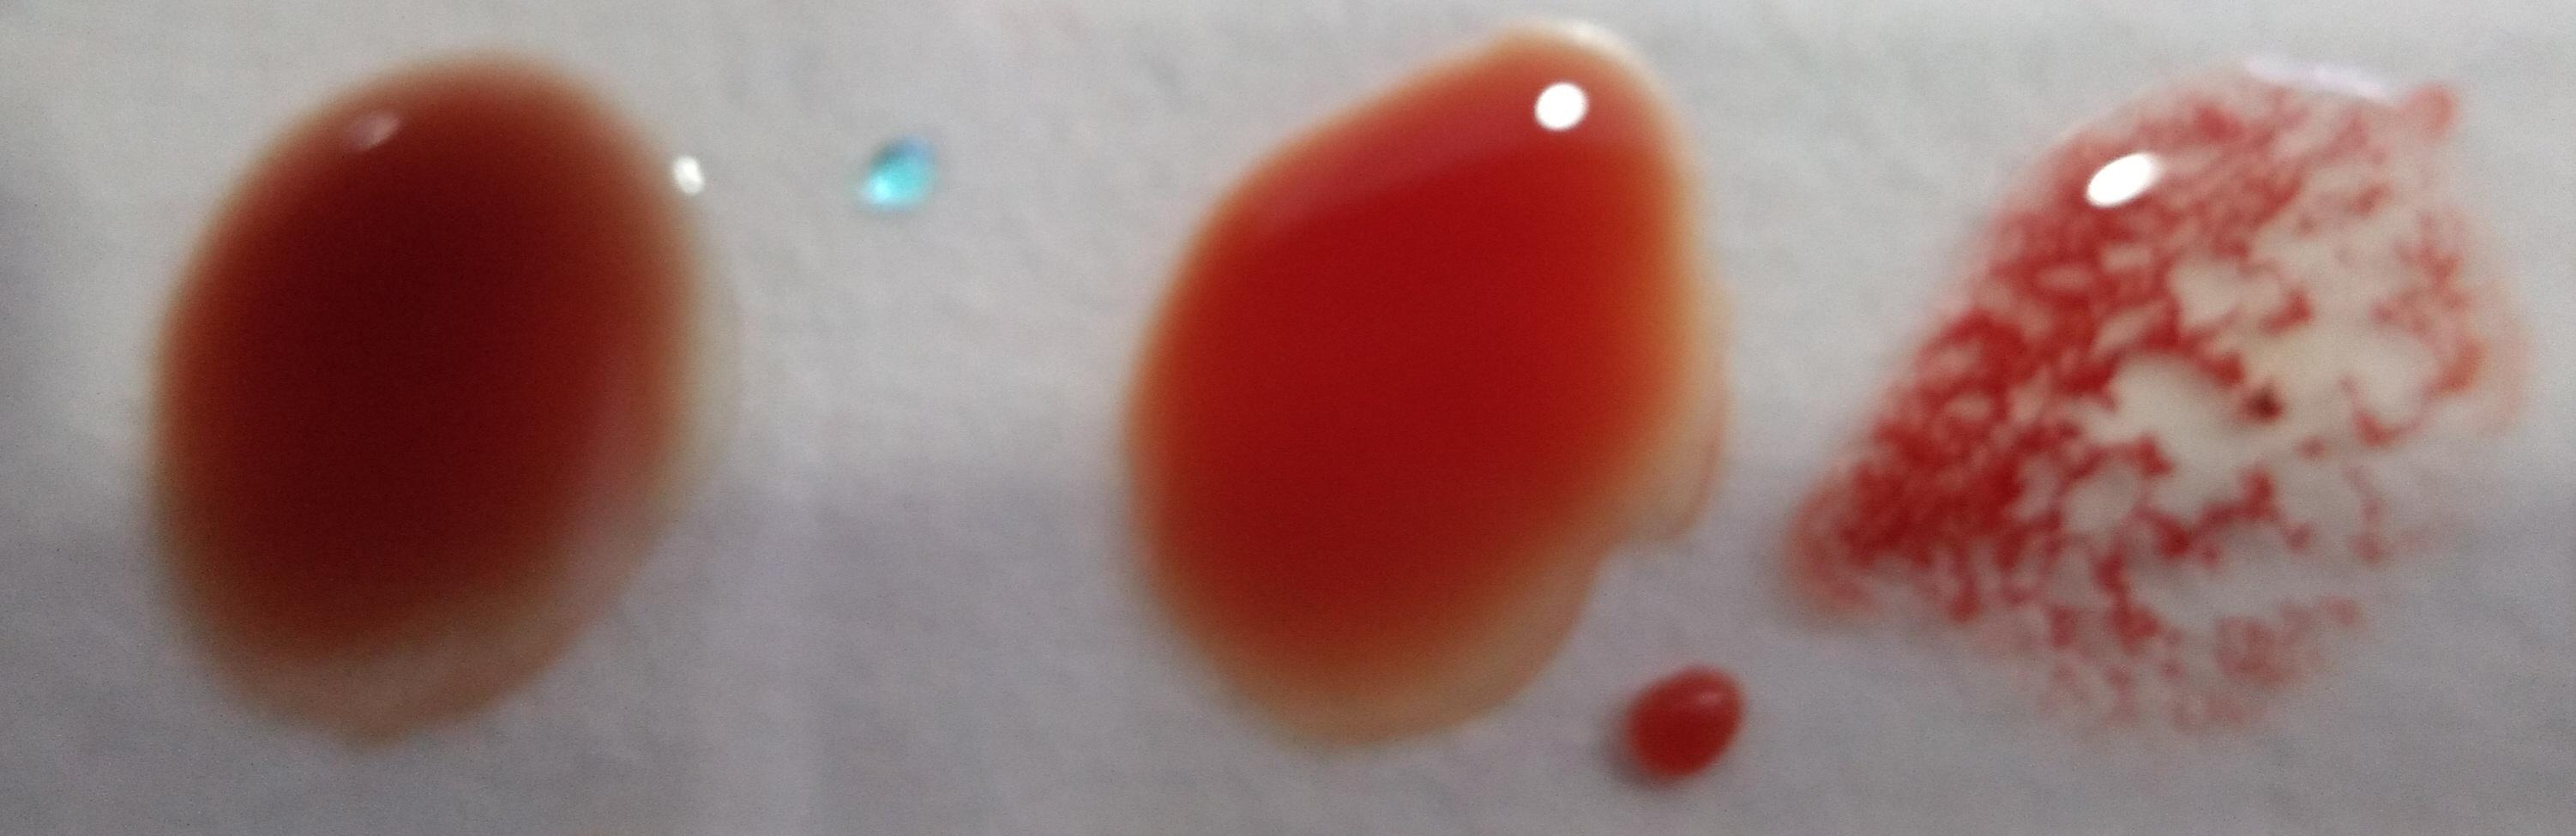D: (1899, 84, 2486, 721)
